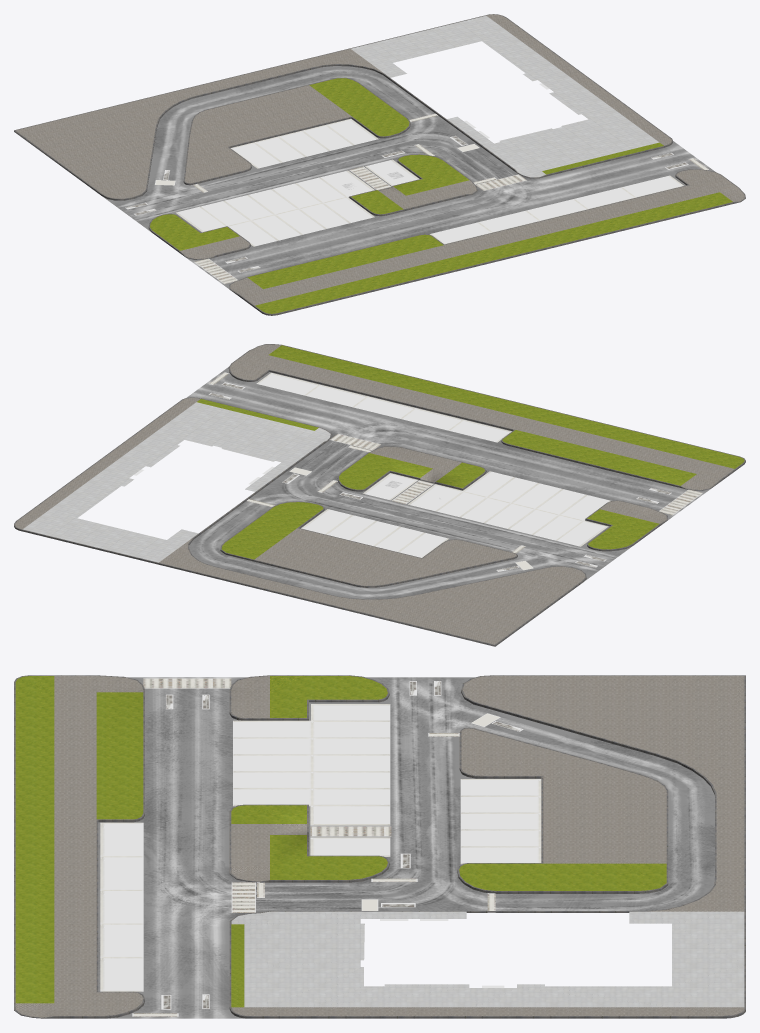
File: fast_food_floor.FBX
The picture shows the model from 3 angles, top to bottom: view 1: azimuth 30°, elevation 25°; view 2: azimuth 150°, elevation 25°; view 3: azimuth 270°, elevation 25°; orthographic projection. The views are drawn at different scales.
Parts seen in each view (by area): view 1: floor, marking001; view 2: floor, marking001; view 3: floor, marking001.
Part boxes in pixels (x1,y1,x2,y2): floor: (14,14,745,315); marking001: (125,113,708,283); floor: (14,344,745,646); marking001: (209,372,702,571); floor: (14,675,745,1018); marking001: (100,678,541,1016).
Bounding box in the file's own units: 6961 × 24.09 × 6307.
